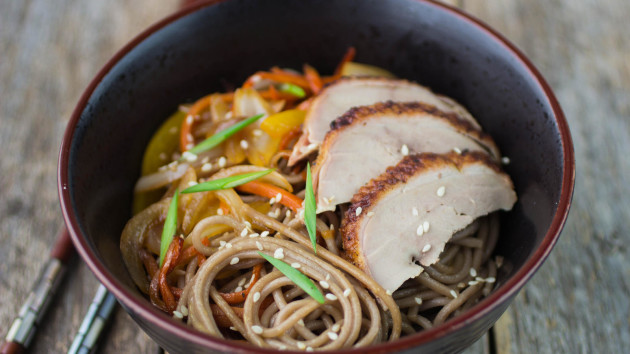Soba: (109, 156, 510, 346)
